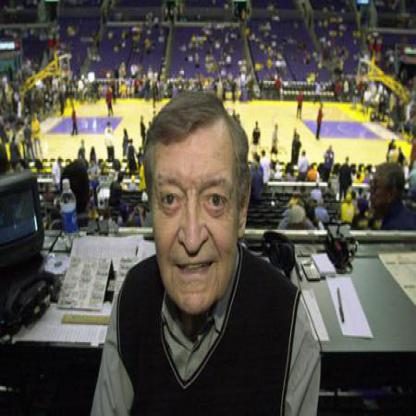face: (152, 91, 241, 317)
